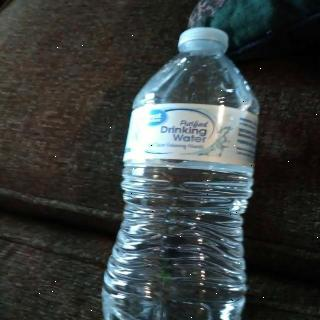Plastic-bottle: (95, 26, 265, 320)
